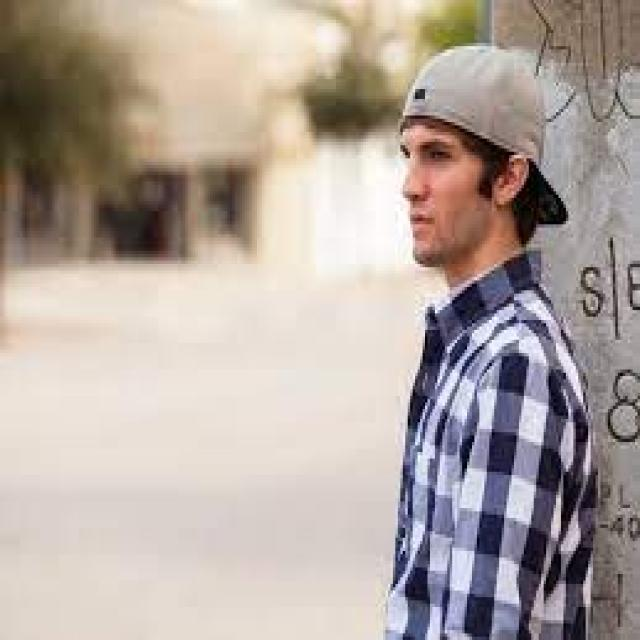cap: (393, 36, 578, 225)
